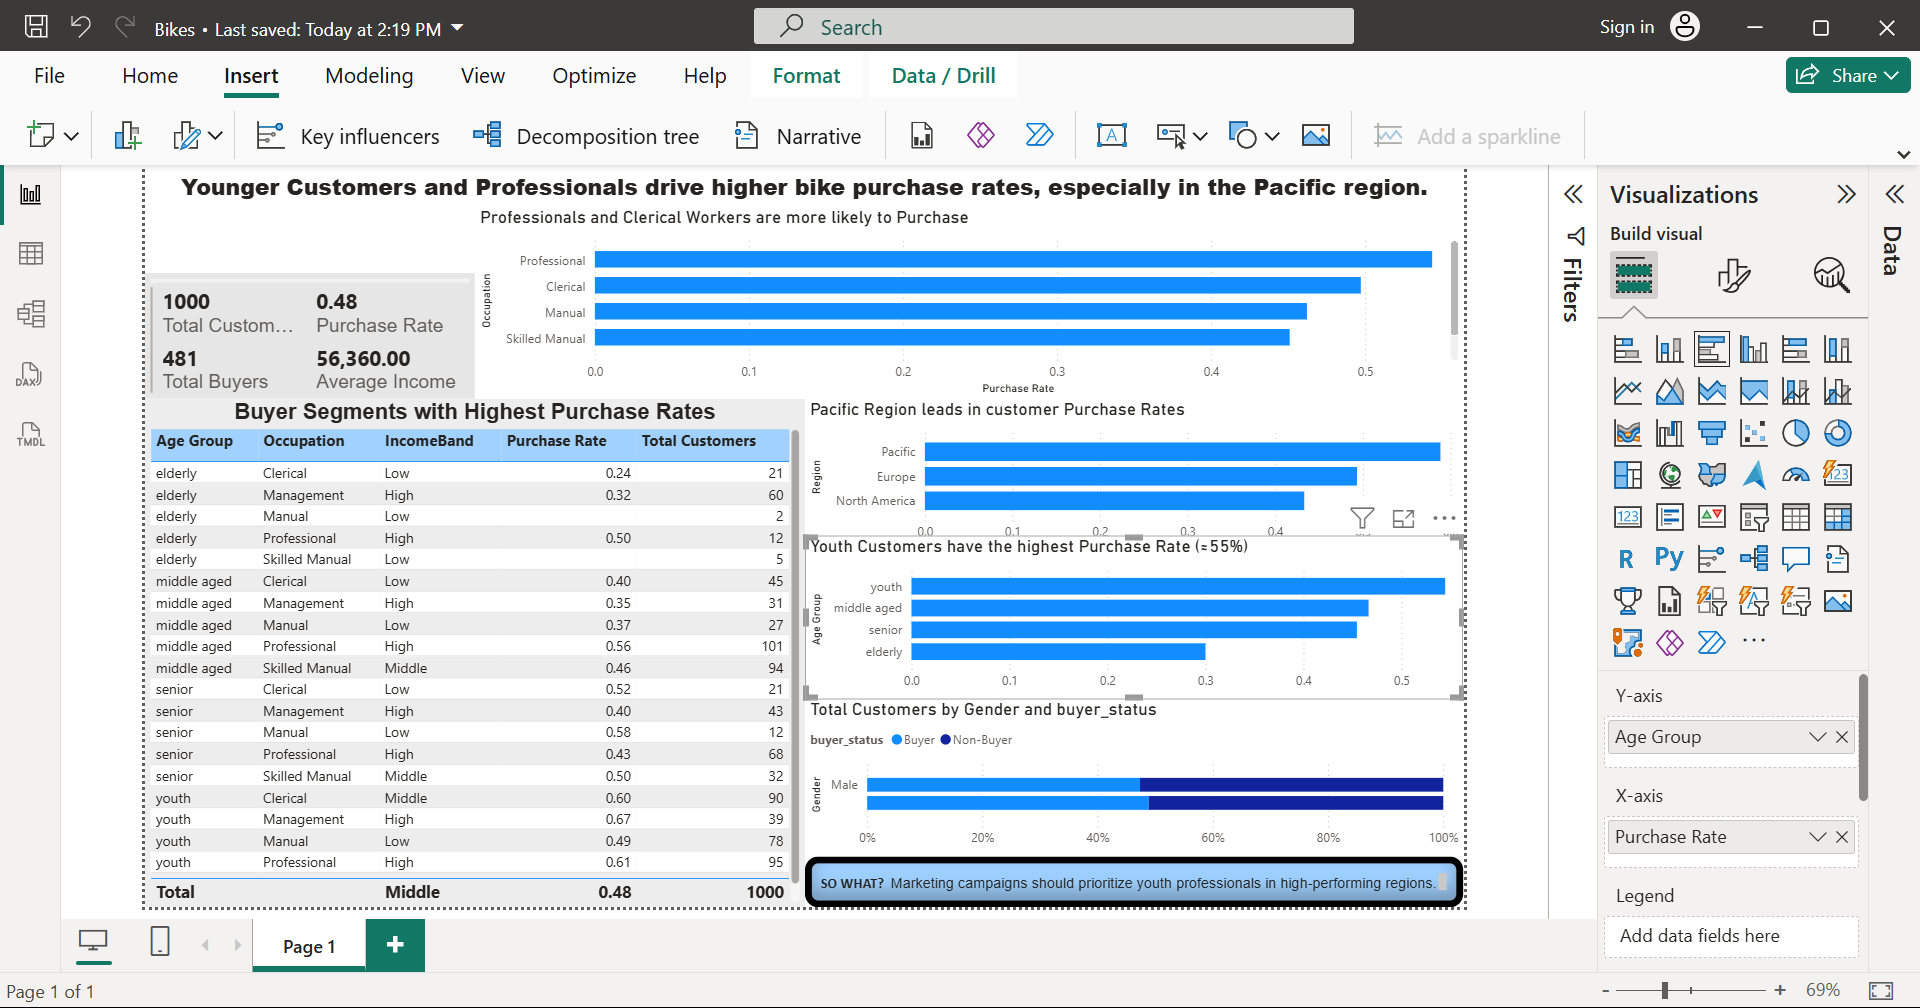

This screenshot's page, from the dashboard's own definition file:
{"tool":"powerbi","page":{"name":"Page 1","canvas":[1280,720],"ordinal":0},"visuals":[{"type":"multiRowCard","fields":{"Values":["bikes bike_buyers2.Total Customers","bikes bike_buyers2.purchase rate","bikes bike_buyers2.Total Buyers","bikes bike_buyers2.Mean Income"]},"box":[0,104.8,320.2,122.3],"z":0},{"type":"clusteredBarChart","title":"Youth Customers have the highest Purchase Rate (≈55%)","fields":{"Category":["bikes bike_buyers2.age_group"],"Y":["bikes bike_buyers2.Purchase Rate"]},"box":[640.4,359.5,639,158.7],"z":1000},{"type":"clusteredBarChart","title":"Professionals and Clerical Workers are more likely to Purchase","fields":{"Category":["bikes bike_buyers2.Occupation"],"Y":["bikes bike_buyers2.Purchase Rate"]},"box":[320.2,40.8,959.2,186.3],"z":2000},{"type":"tableEx","title":"Buyer Segments with Highest Purchase Rates","fields":{"Values":["bikes bike_buyers2.age_group","bikes bike_buyers2.Occupation","bikes bike_buyers2.IncomeBand","bikes bike_buyers2.Purchase Rate","bikes bike_buyers2.Total Customers"]},"box":[0,227.1,640.4,493.4],"z":3000},{"type":"hundredPercentStackedBarChart","fields":{"Category":["bikes bike_buyers2.Gender"],"Series":["bikes bike_buyers2.buyer_status"],"Y":["bikes bike_buyers2.Total Customers"]},"box":[640.4,518.2,639,152.8],"z":4000},{"type":"clusteredBarChart","title":"Pacific Region leads in customer Purchase Rates","fields":{"Category":["bikes bike_buyers2.Region"],"Y":["bikes bike_buyers2.Purchase Rate"]},"box":[640.4,227.1,639,147],"z":5000},{"type":"textbox","box":[640.4,671,639,49.5],"z":6000},{"type":"textbox","box":[0,0,1279.4,40.8],"z":7000}]}

Visuals, with their boxes on the page's 1280x720 design canvas (x1, y1, x2, y2). These are canvas units, not pixel positions in the 1920x1008 screenshot, which may show the page scaled, cropped or inside an application window:
multiRowCard - bikes bike_buyers2.Total Customers x bikes bike_buyers2.purchase rate: 0:105:320:227
"Youth Customers have the highest Purchase Rate (≈55%)" clusteredBarChart: 640:360:1279:518
"Professionals and Clerical Workers are more likely to Purchase" clusteredBarChart: 320:41:1279:227
"Buyer Segments with Highest Purchase Rates" tableEx: 0:227:640:720
hundredPercentStackedBarChart - bikes bike_buyers2.Gender x bikes bike_buyers2.buyer_status: 640:518:1279:671
"Pacific Region leads in customer Purchase Rates" clusteredBarChart: 640:227:1279:374
textbox: 640:671:1279:720
textbox: 0:0:1279:41
